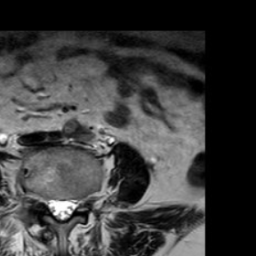CCS_normal: (57, 185, 66, 231)
LFS_normal: (76, 184, 87, 219)
LLS_normal: (66, 186, 76, 220)
RFS_stenosis: (38, 183, 47, 215)
RLS_normal: (47, 187, 57, 224)
